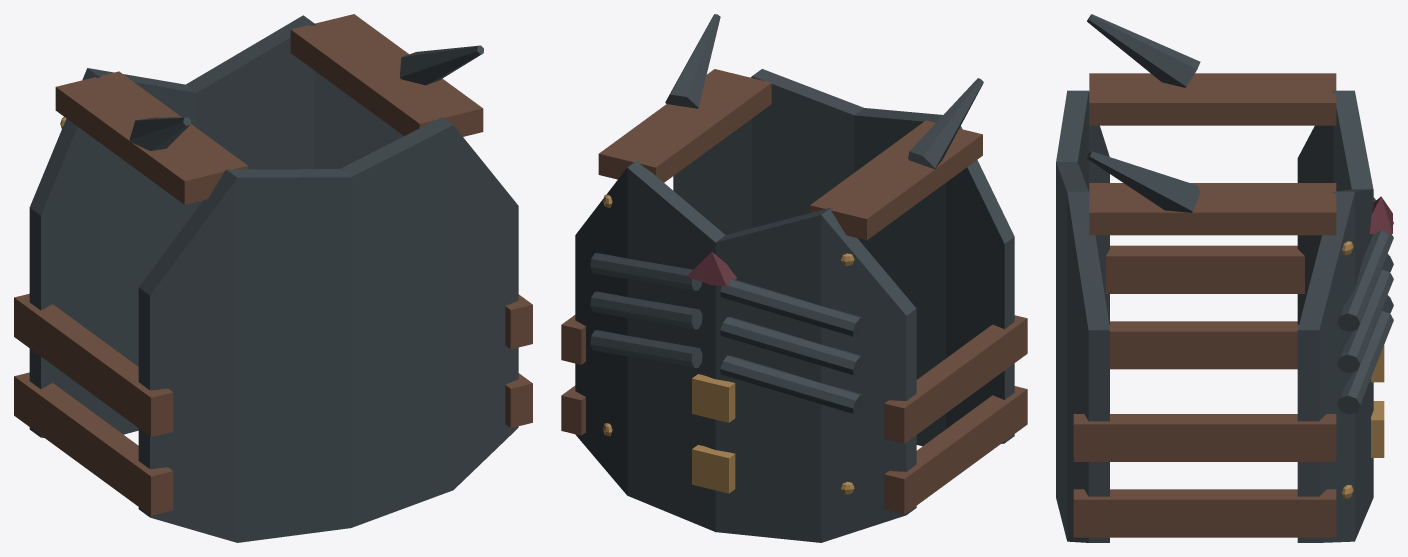
Rendered from AE_Item_BlackBriarHarness.fbx.
The picture shows the model from 3 angles, left to right: view 1: azimuth 30°, elevation 25°; view 2: azimuth 150°, elevation 25°; view 3: azimuth 270°, elevation 25°; orthographic projection. The views are drawn at different scales.
Parts seen in each view (by area): view 1: AE_Item_BlackBriarHarness; view 2: AE_Item_BlackBriarHarness; view 3: AE_Item_BlackBriarHarness.
Boxes of the visible parts, x1,y1,x2,y2 form: AE_Item_BlackBriarHarness: (14,14,532,542); AE_Item_BlackBriarHarness: (561,14,1027,542); AE_Item_BlackBriarHarness: (1056,14,1393,542).
Bounding box in the file's own units: 0.5469 × 0.5924 × 0.4375.
